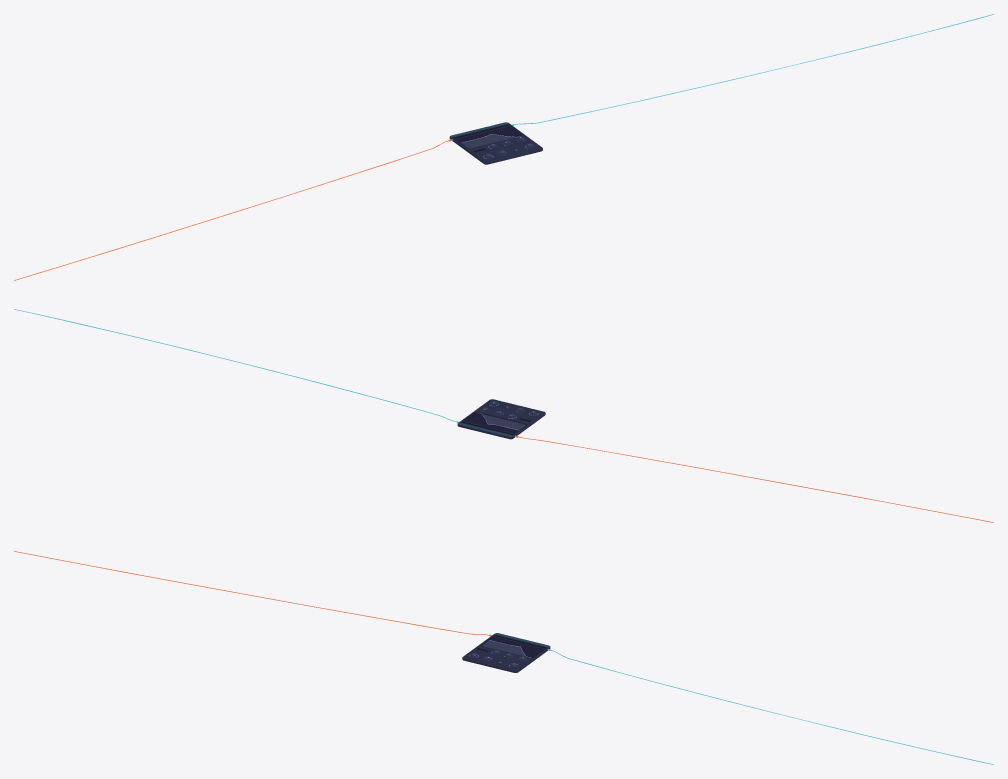
Rendered from node_audio_filter_wide.glb.
3 views of the same model, one above another, from view 1: azimuth 30°, elevation 25°; view 2: azimuth 150°, elevation 25°; view 3: azimuth 330°, elevation 25° (orthographic). The views are drawn at different scales.
Parts seen in each view (by area): view 1: c_sync.001, cable.002; view 2: c_sync.001, cable.002; view 3: c_sync.001, cable.002.
Boxes of the visible parts, x1=… form: c_sync.001: x1=449, y1=122, x2=542, y2=164; cable.002: x1=14, y1=14, x2=993, y2=280; c_sync.001: x1=456, y1=399, x2=545, y2=439; cable.002: x1=14, y1=309, x2=993, y2=522; c_sync.001: x1=462, y1=633, x2=550, y2=672; cable.002: x1=14, y1=551, x2=993, y2=764.
Size of the model in its own units: 7.94 by 0.0325 by 0.5137.
5 materials, 5 textured.
